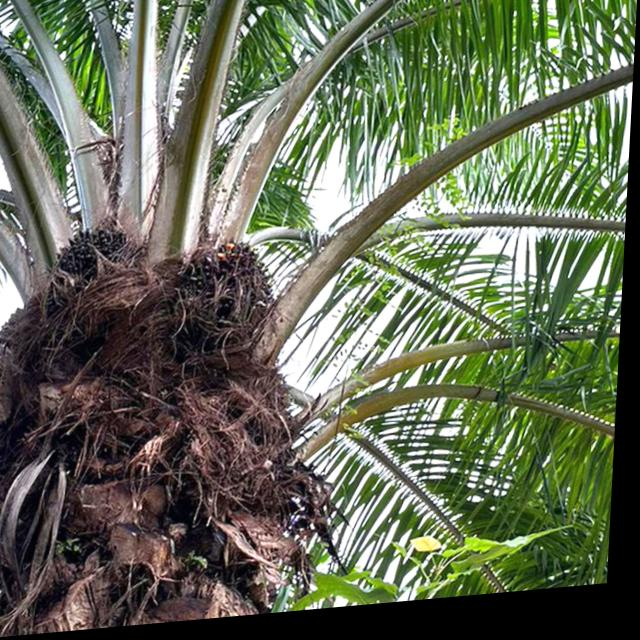almost: (176, 236, 284, 366), (49, 217, 145, 319)
